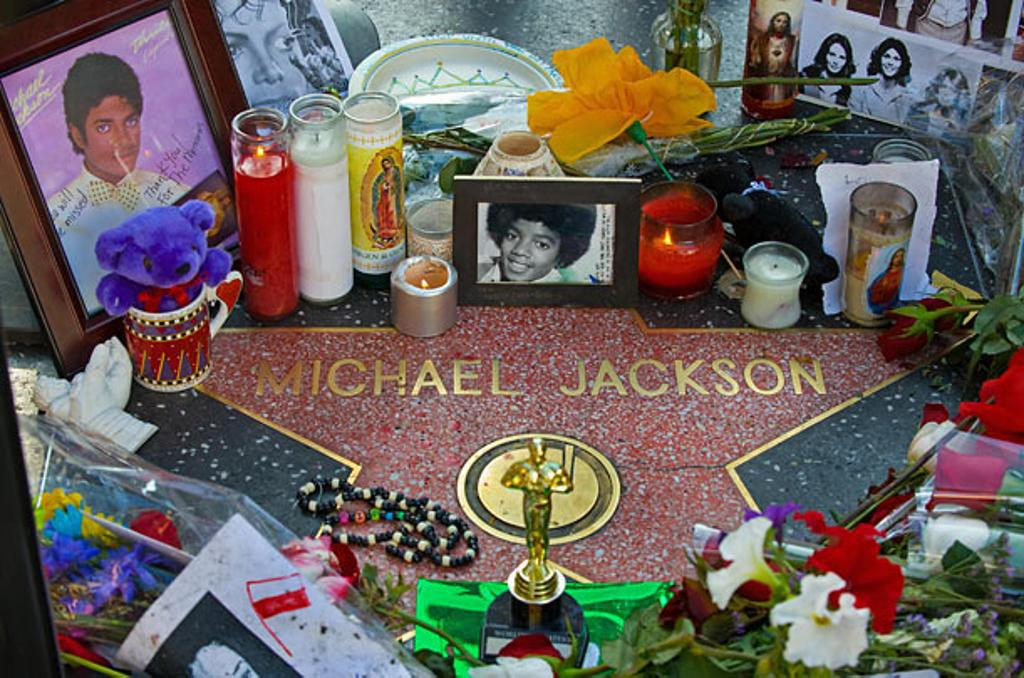face: (193, 2, 318, 139), (84, 98, 141, 175), (502, 220, 559, 282), (189, 645, 259, 678), (882, 48, 903, 77), (827, 44, 848, 73), (938, 78, 958, 107), (774, 16, 788, 34), (304, 25, 320, 40), (893, 252, 904, 266), (383, 161, 391, 169)
